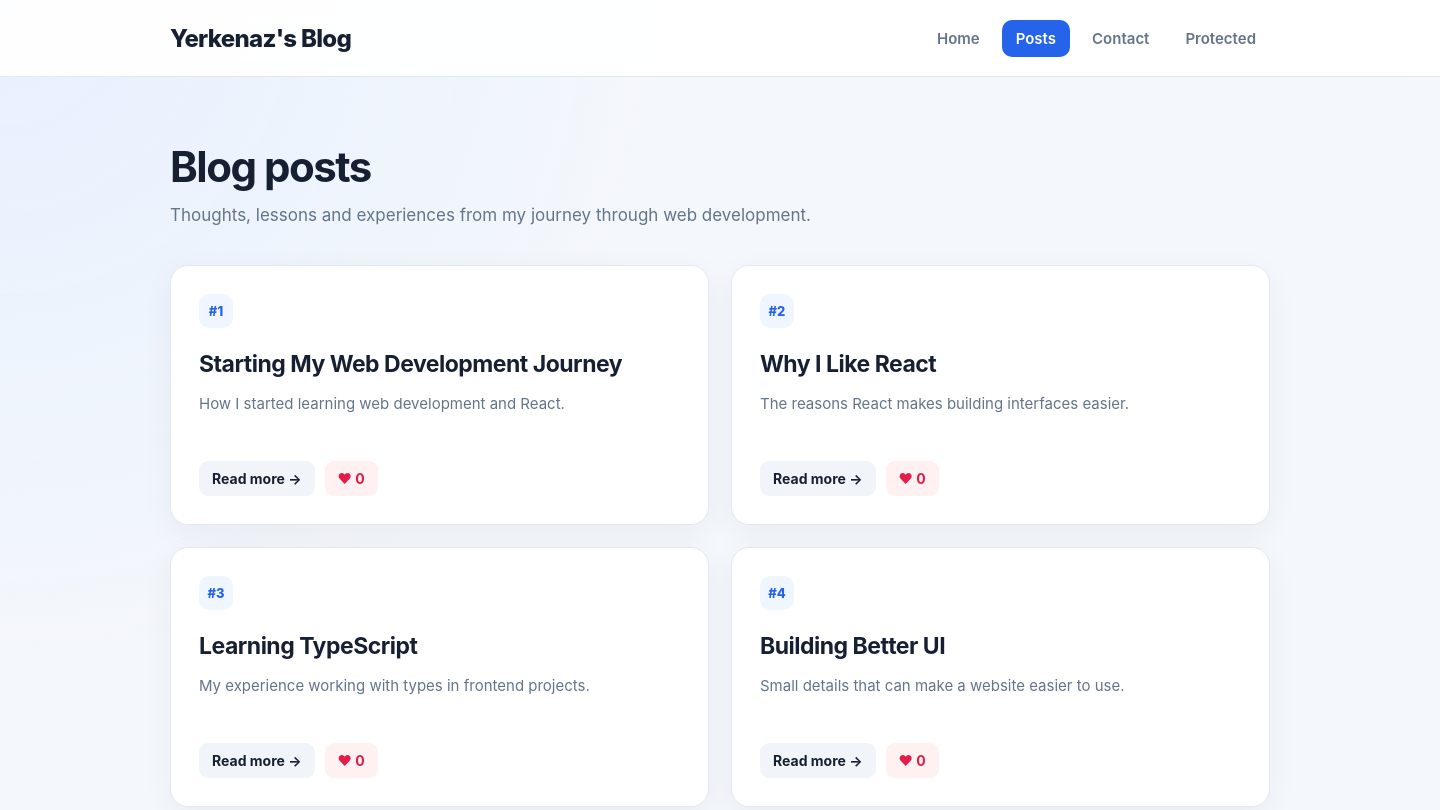
Test: Blog app › like count increases when clicked
Click the button "♥ 0" below "Starting My Web Development Journey". click: (351,479)
box: x1=324 y1=461 x2=378 y2=496
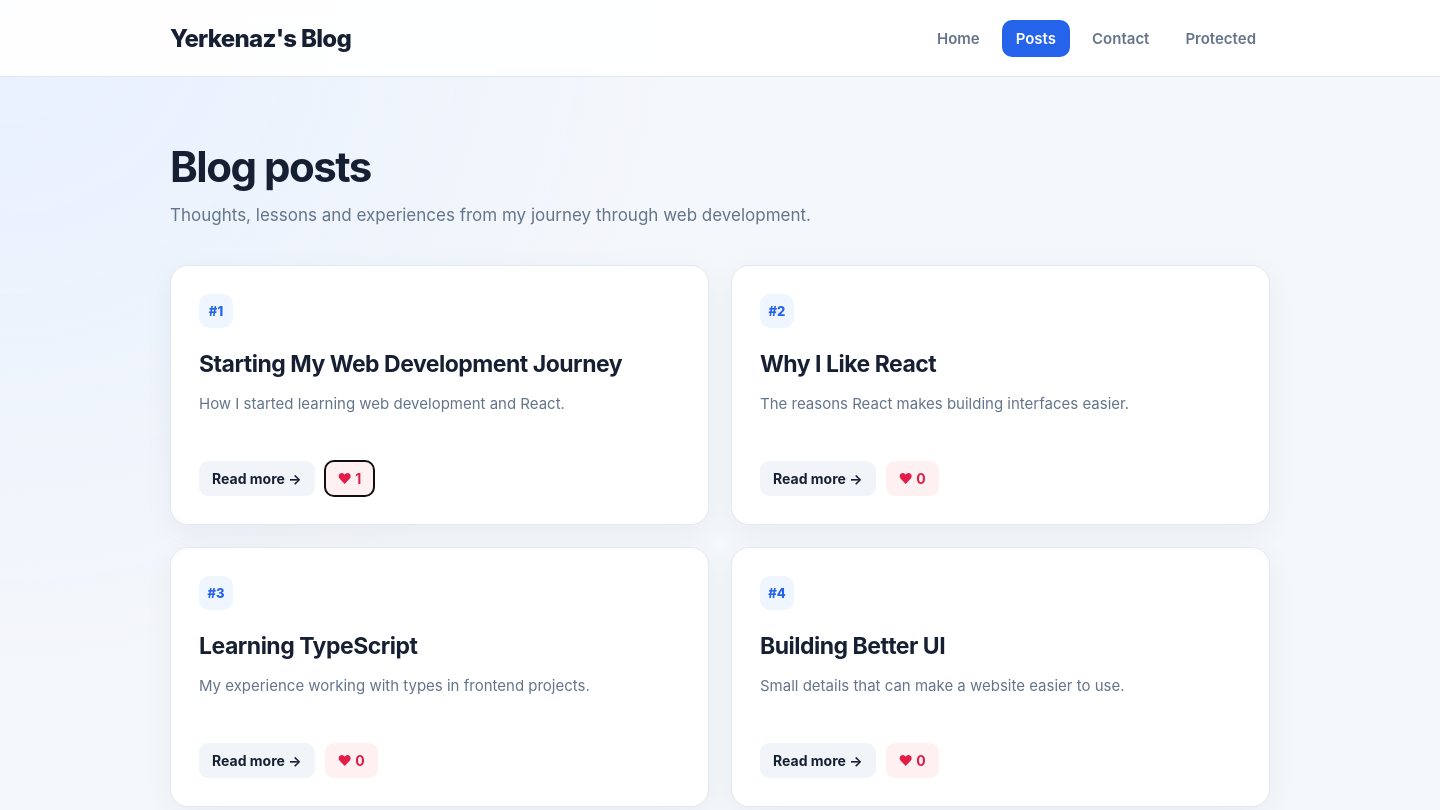
Expected: the button named "♥ 0" reads "♥ 1", x1=324 y1=461 x2=374 y2=496
